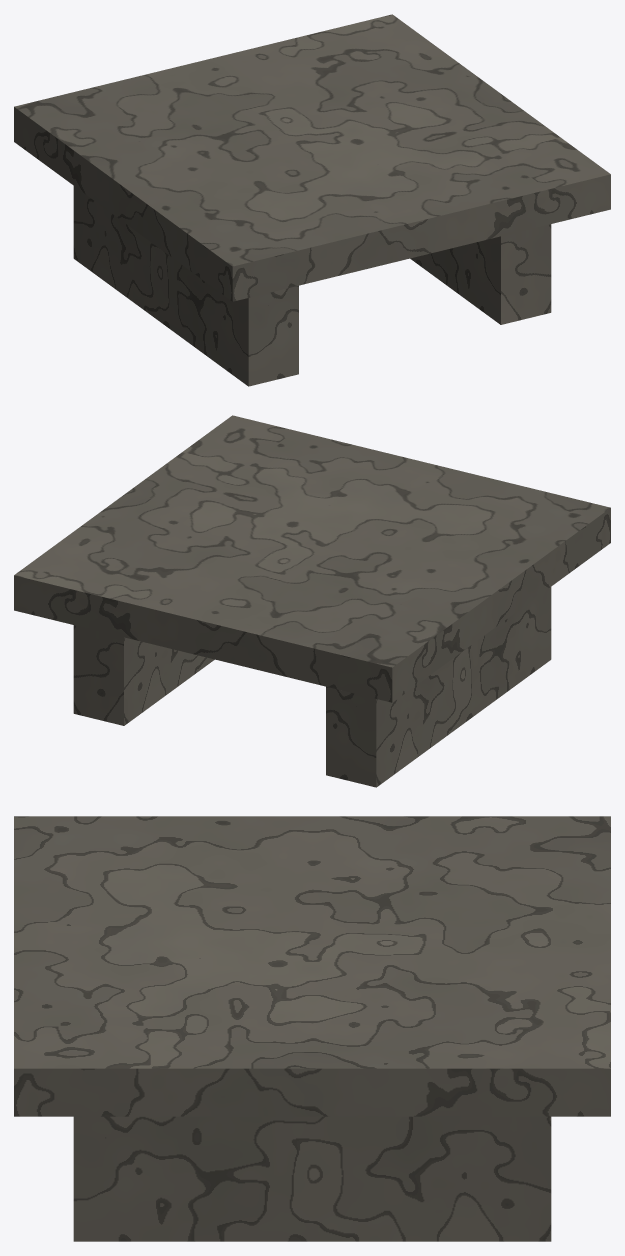
Rendered from chimney_cap.glb.
3 renders of one model, top to bottom at view 1: azimuth 30°, elevation 25°; view 2: azimuth 150°, elevation 25°; view 3: azimuth 270°, elevation 25°, orthographic. The views are drawn at different scales.
Parts seen in each view (by area): view 1: chimney_cap; view 2: chimney_cap; view 3: chimney_cap.
Boxes of the visible parts, bbox=[...] form: chimney_cap: bbox=[14, 14, 610, 386]; chimney_cap: bbox=[14, 415, 610, 787]; chimney_cap: bbox=[14, 816, 610, 1241].
Size of the model in its own units: 0.9 by 0.33 by 0.9.
1 material, 1 textured.
